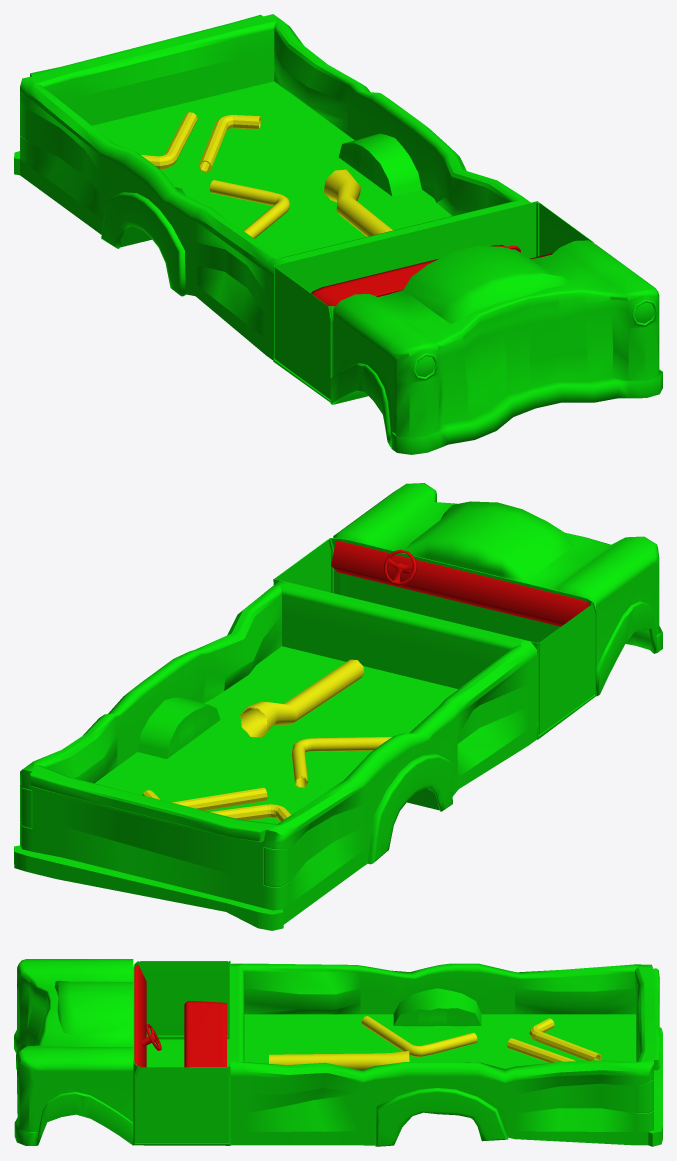
Rendered from truck_Damaged.fbx.
The picture shows the model from 3 angles, top to bottom: view 1: azimuth 30°, elevation 25°; view 2: azimuth 150°, elevation 25°; view 3: azimuth 270°, elevation 25°; orthographic projection. The views are drawn at different scales.
Visible parts, largest first — view 1: Truck_Front_Basic, Truck_Back_basic, Truck_Cab_bottom_3, Truck_bench, polySurface7, polySurface3, polySurface10, polySurface9; view 2: Truck_Back_basic, Truck_Front_Basic, Truck_Cab_bottom_3, Truck_Dash, polySurface7, polySurface3, polySurface10, polySurface9; view 3: Truck_Back_basic, Truck_Front_Basic, Truck_Cab_bottom_3, Truck_bench, polySurface7, polySurface3, Truck_Dash, polySurface9, polySurface10.
Boxes of the visible parts, <box> form: Truck_Front_Basic: <box>92,81,662,454</box>; Truck_Back_basic: <box>14,14,530,360</box>; Truck_Cab_bottom_3: <box>273,201,593,402</box>; Truck_bench: <box>311,245,505,306</box>; polySurface7: <box>324,169,392,236</box>; polySurface3: <box>209,180,290,238</box>; polySurface10: <box>198,115,260,172</box>; polySurface9: <box>141,112,197,169</box>; Truck_Back_basic: <box>14,581,536,930</box>; Truck_Front_Basic: <box>95,483,662,823</box>; Truck_Cab_bottom_3: <box>273,538,596,739</box>; Truck_Dash: <box>331,540,588,626</box>; polySurface7: <box>240,659,364,737</box>; polySurface3: <box>291,737,392,787</box>; polySurface10: <box>142,787,267,810</box>; polySurface9: <box>210,804,290,821</box>; Truck_Back_basic: <box>230,963,662,1146</box>; Truck_Front_Basic: <box>14,959,636,1145</box>; Truck_Cab_bottom_3: <box>133,961,230,1145</box>; Truck_bench: <box>184,1001,226,1067</box>; polySurface7: <box>269,1051,409,1070</box>; polySurface3: <box>361,1016,477,1056</box>; Truck_Dash: <box>134,964,146,1067</box>; polySurface9: <box>529,1018,601,1060</box>; polySurface10: <box>507,1038,575,1062</box>.
Bounding box in the file's own units: 0.0292 × 0.0128 × 0.0727.
